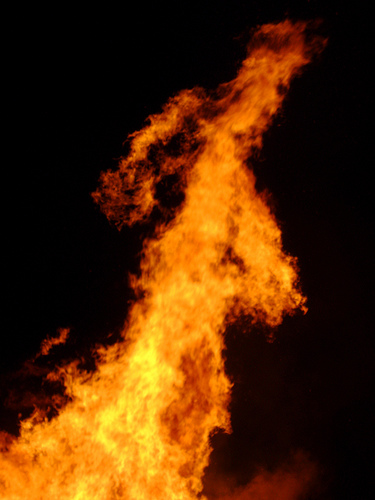fire: (17, 38, 307, 500)
